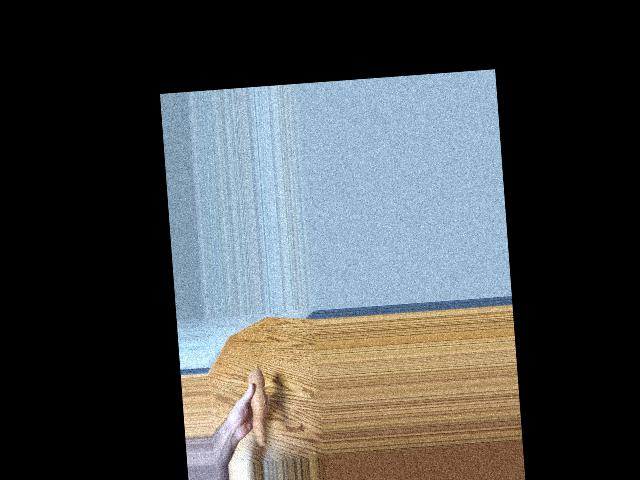sweet_potato: (244, 370, 271, 447)
